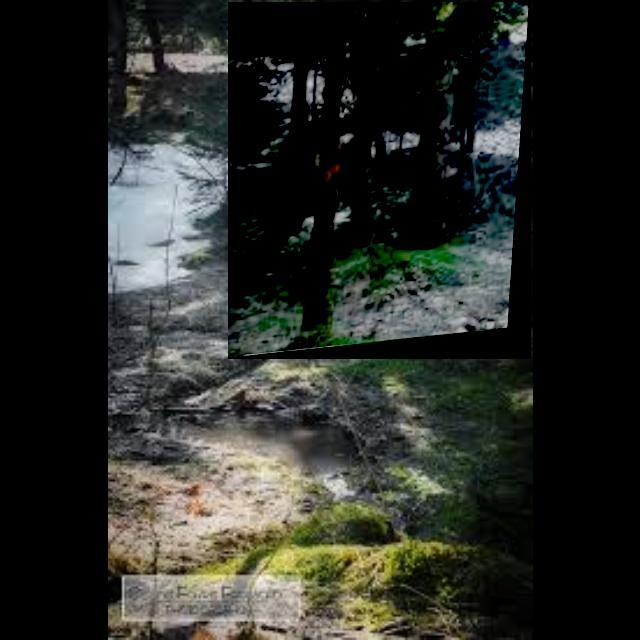fallen_tree: (228, 2, 532, 360)
